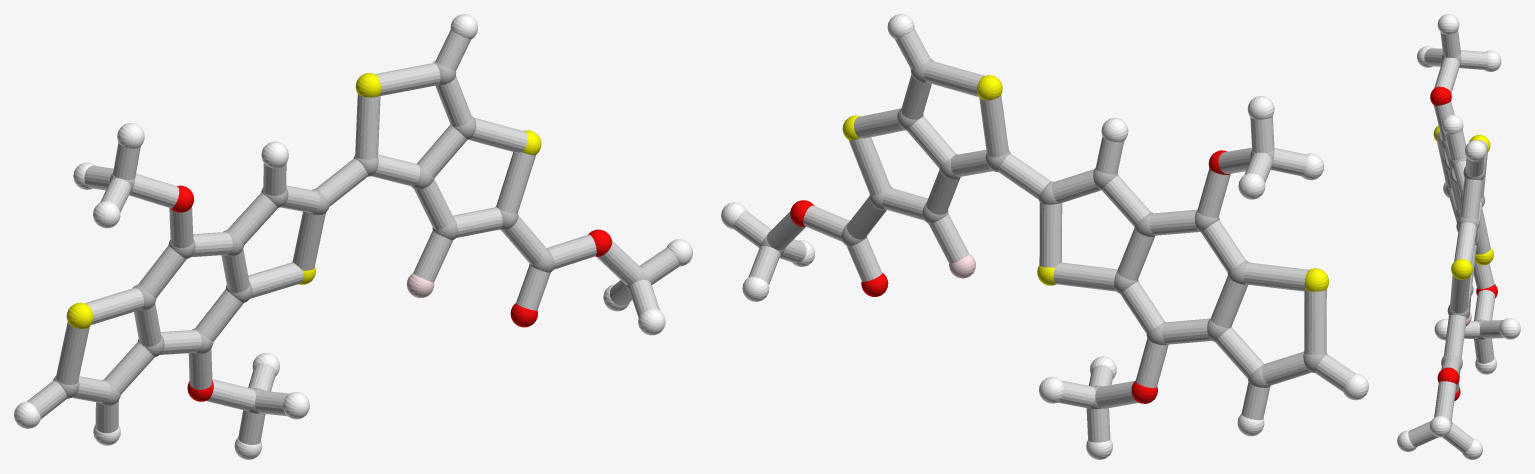
Rendered from color.glb.
3 views of the same model, side by side, from view 1: azimuth 30°, elevation 25°; view 2: azimuth 150°, elevation 25°; view 3: azimuth 270°, elevation 25° (orthographic). The views are drawn at different scales.
Parts seen in each view (by area): view 1: grp15205, grp8689, grp1, grp7241, grp13395; view 2: grp15205, grp8689, grp1, grp7241, grp13395; view 3: grp15205, grp8689, grp1, grp13395, grp7241.
Boxes of the visible parts, bbox=[...] form: grp15205: bbox=[27, 29, 679, 444]; grp8689: bbox=[14, 14, 692, 459]; grp1: bbox=[53, 61, 649, 413]; grp7241: bbox=[66, 73, 541, 328]; grp13395: bbox=[170, 185, 612, 401]; grp15205: bbox=[733, 29, 1355, 442]; grp8689: bbox=[721, 14, 1368, 459]; grp1: bbox=[760, 58, 1327, 409]; grp7241: bbox=[842, 75, 1328, 291]; grp13395: bbox=[790, 150, 1230, 403]; grp15205: bbox=[1408, 30, 1503, 452]; grp8689: bbox=[1397, 14, 1520, 459]; grp1: bbox=[1441, 54, 1485, 426]; grp13395: bbox=[1430, 86, 1497, 401]; grp7241: bbox=[1433, 125, 1493, 279].
Size of the model in its own units: 16.76 by 9.54 by 3.42.
